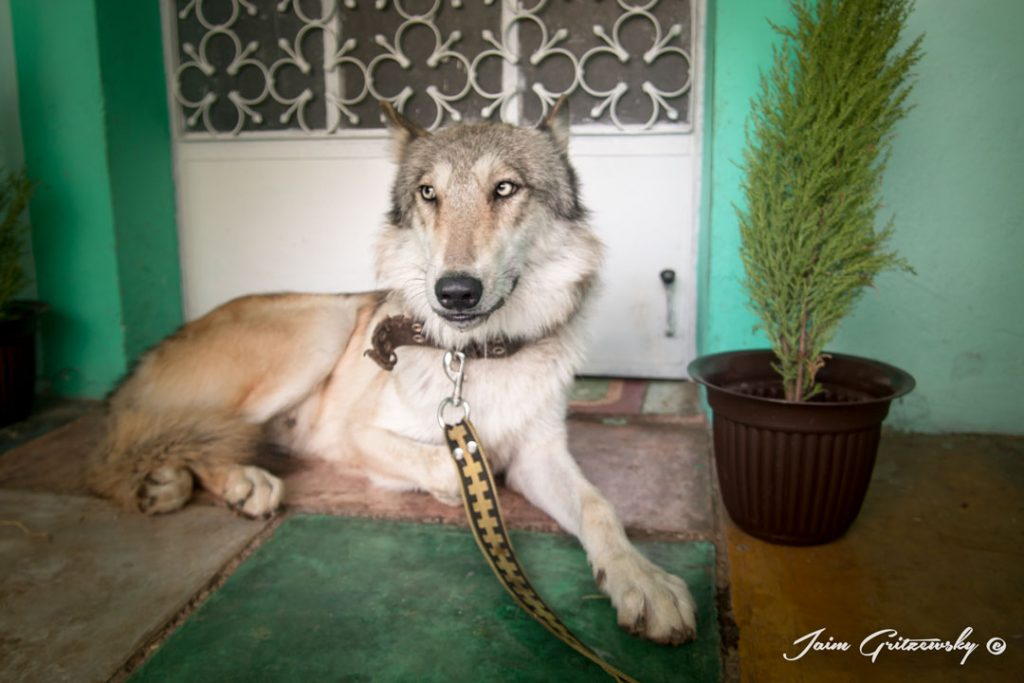Lobo: (53, 108, 701, 641)
